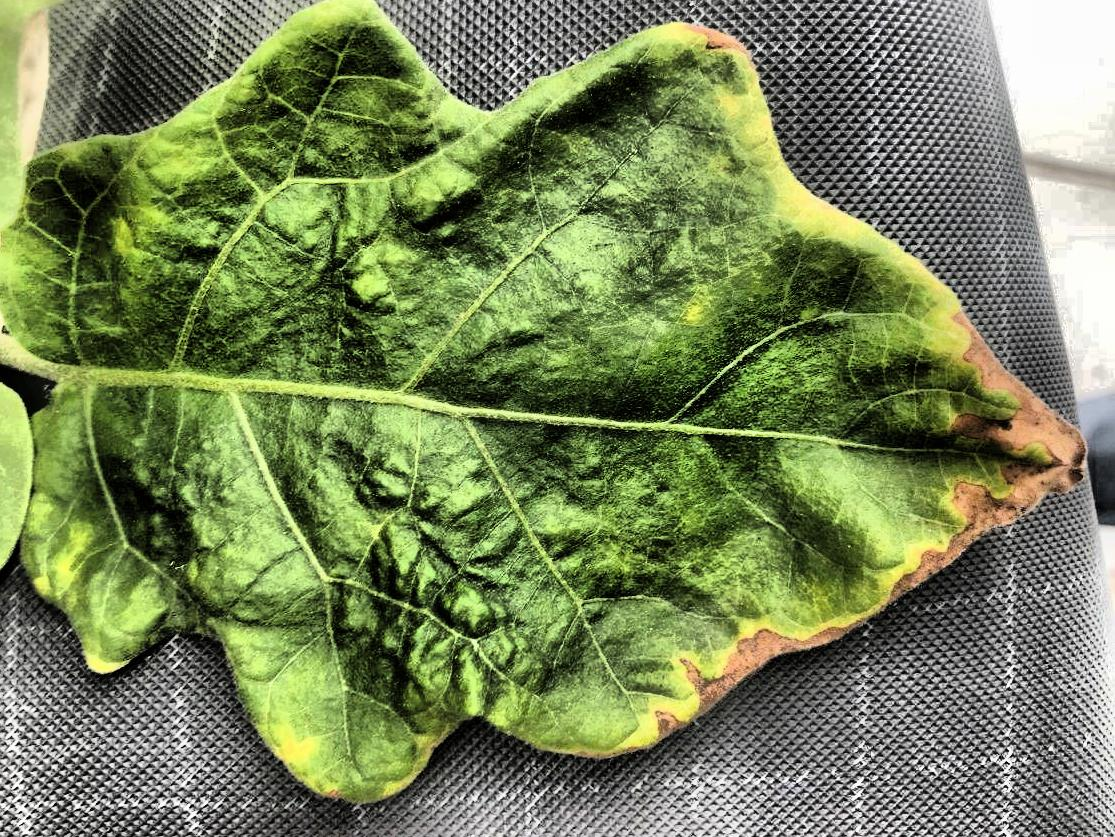Critical Stress: (1, 0, 1115, 837)
